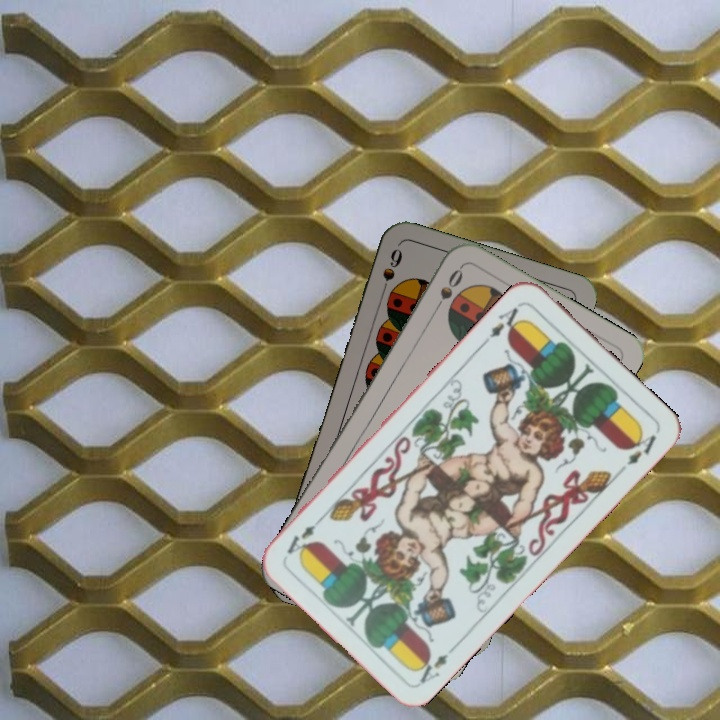EA: (411, 640, 460, 687), (481, 303, 527, 348)
S9: (376, 244, 405, 301)
SO: (429, 263, 466, 317)
